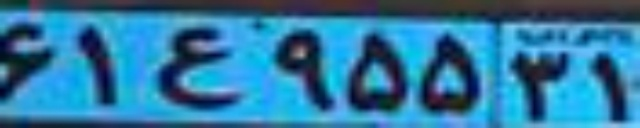1: (77, 23, 116, 105), (588, 50, 627, 123)
3: (506, 49, 574, 122)
5: (340, 32, 408, 110), (416, 33, 479, 113)
6: (1, 21, 57, 104)
9: (271, 28, 333, 111)
ain: (155, 27, 243, 109)
